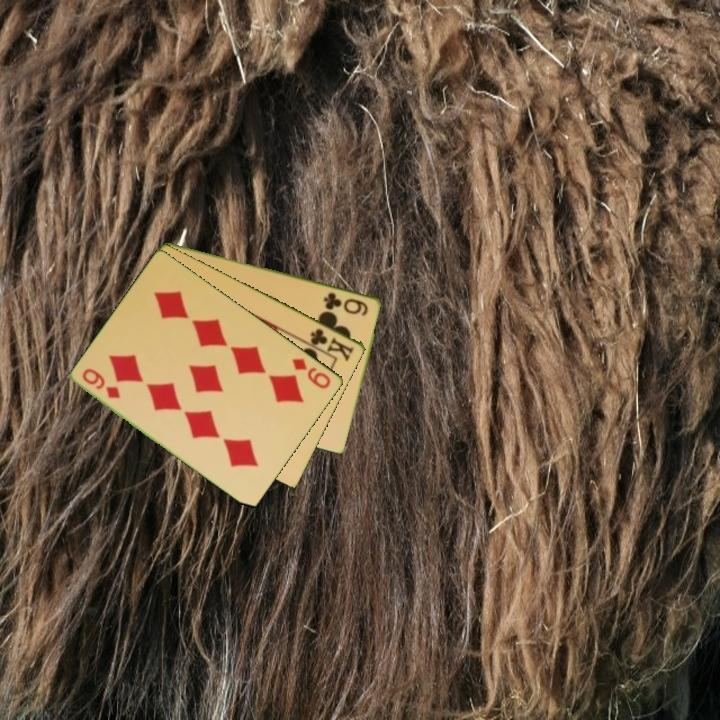6c: (320, 288, 371, 318)
9d: (289, 354, 334, 392), (79, 365, 123, 401)
Kc: (307, 325, 357, 363)
